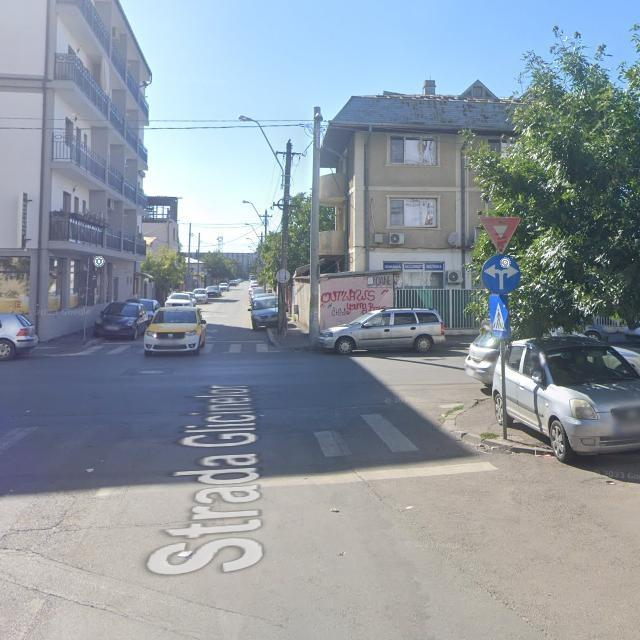info_crosswalk: (489, 296, 510, 339)
prio_give_way: (480, 216, 521, 255)
